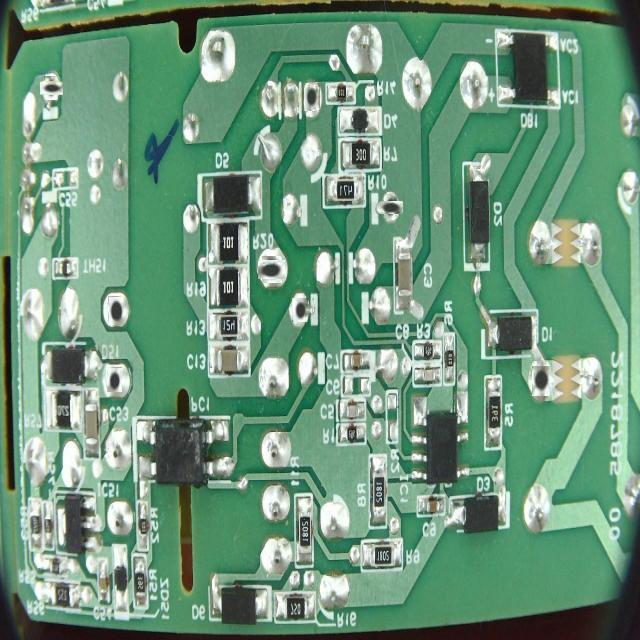damged: (260, 258, 284, 281), (532, 366, 550, 396), (108, 296, 124, 325), (304, 83, 320, 111), (106, 367, 122, 392), (292, 298, 308, 322), (381, 198, 400, 217), (42, 79, 60, 97)
